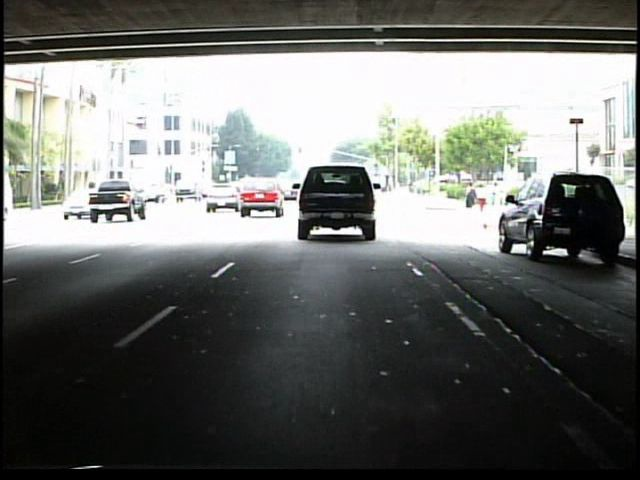person: (464, 180, 478, 215), (489, 179, 504, 208), (478, 183, 489, 212)
